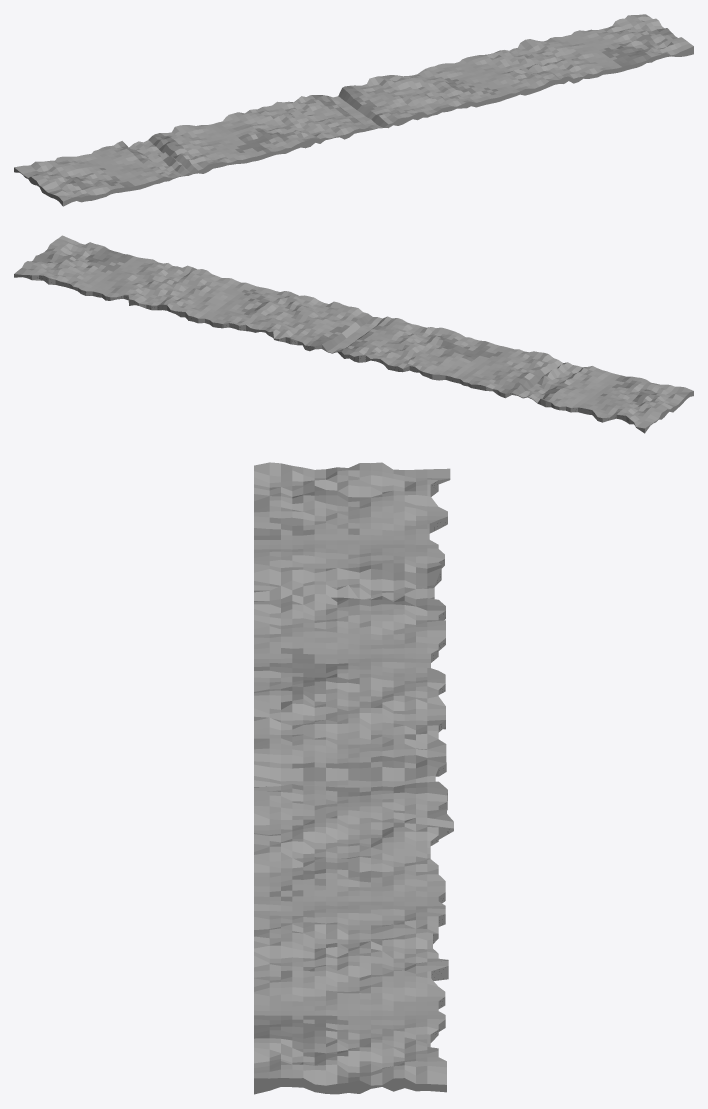
File: far_wall_template.fbx
3 renders of one model, top to bottom at view 1: azimuth 30°, elevation 25°; view 2: azimuth 150°, elevation 25°; view 3: azimuth 270°, elevation 25°, orthographic. The views are drawn at different scales.
Visible parts, largest first — view 1: Grid; view 2: Grid; view 3: Grid.
Part boxes in pixels (x1=…): Grid: x1=14, y1=14, x2=693, y2=206; Grid: x1=14, y1=235, x2=693, y2=433; Grid: x1=254, y1=462, x2=453, y2=1094.
Bounding box in the file's own units: 16.18 × 0.2118 × 2.22.
2 materials, 2 textured.
